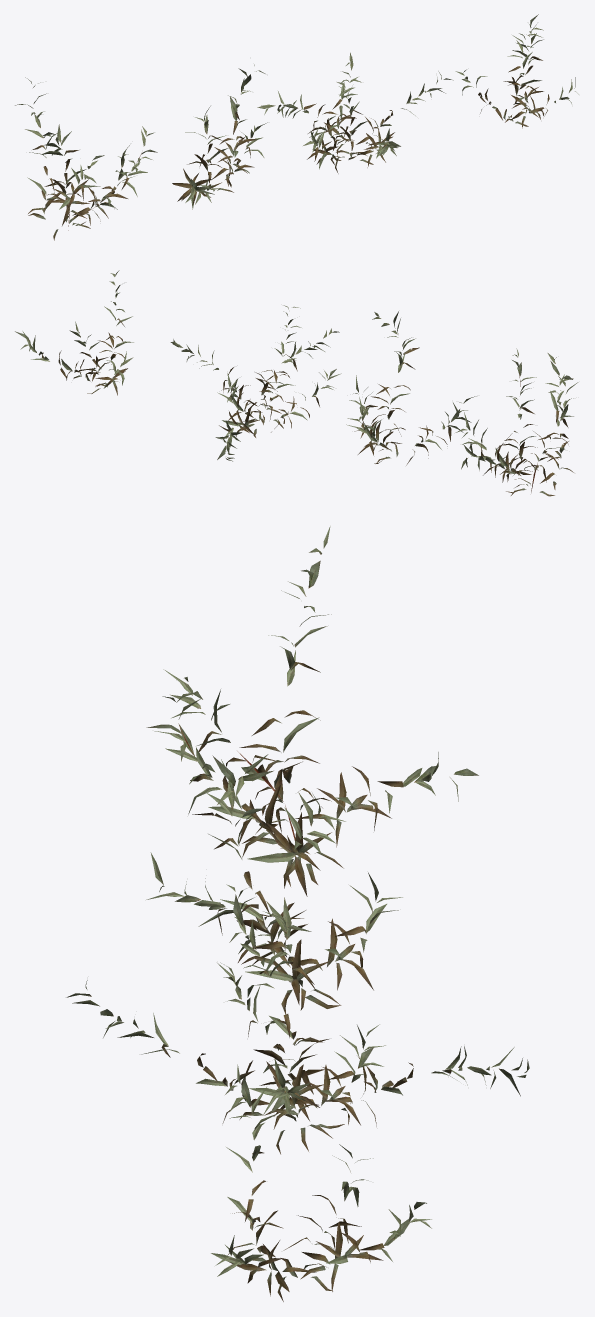
The model's file is shrub_02.glb.
The picture shows the model from 3 angles, top to bottom: view 1: azimuth 30°, elevation 25°; view 2: azimuth 150°, elevation 25°; view 3: azimuth 270°, elevation 25°; orthographic projection. The views are drawn at different scales.
Visible parts, largest first — view 1: shrub_02_a; view 2: shrub_02_a; view 3: shrub_02_a.
Boxes of the visible parts, x1,y1,x2,y2 form: shrub_02_a: (15,14,578,240); shrub_02_a: (15,270,578,496); shrub_02_a: (66,526,529,1301).
Size of the model in its own units: 6.05 by 1.7 by 2.28.
1 material, 1 textured.
